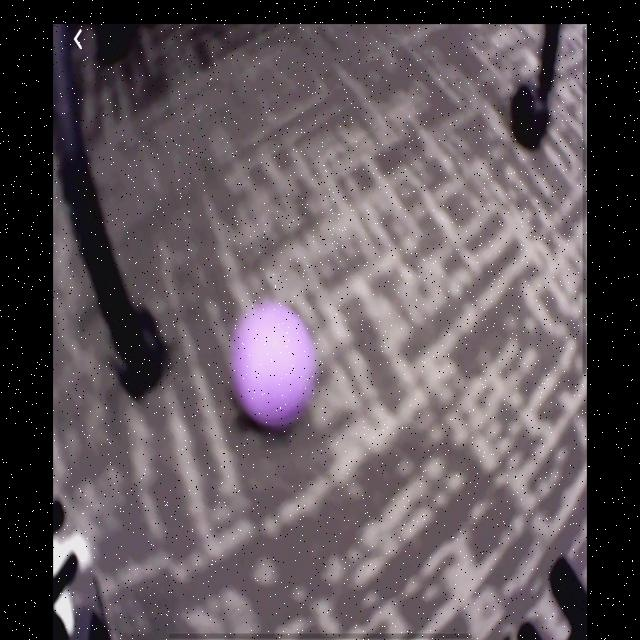ball: (231, 301, 317, 430)
